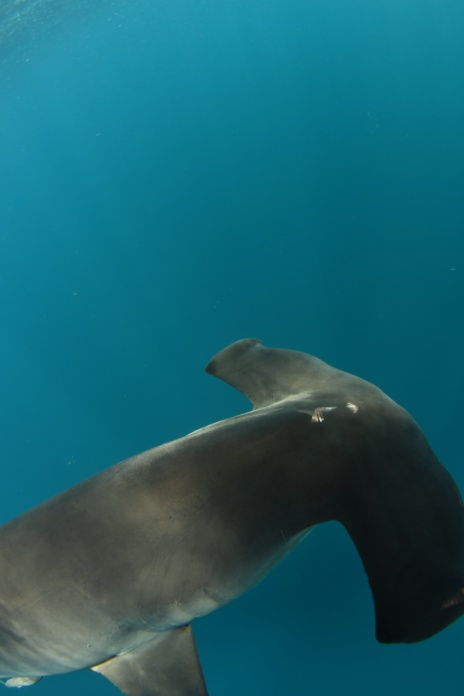Hammer: (1, 323, 462, 696)
